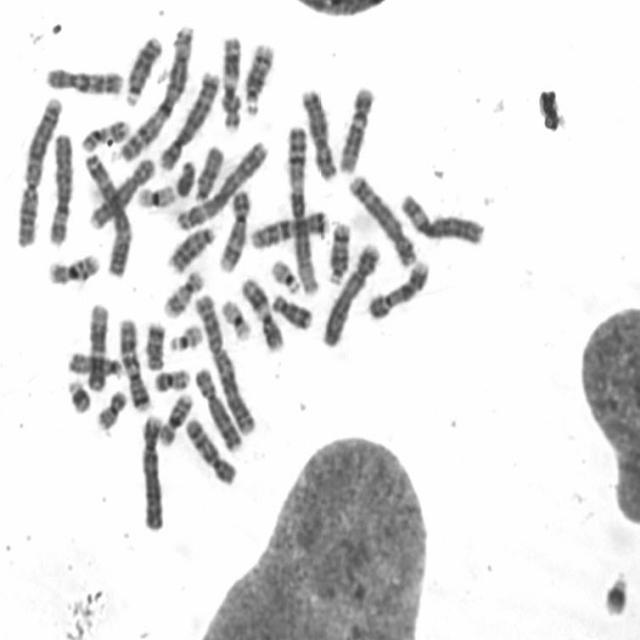A1: (116, 21, 196, 164), (284, 124, 320, 296)
A2: (192, 289, 256, 438), (12, 93, 64, 248)
A3: (173, 137, 270, 232), (81, 148, 133, 280)
B4: (318, 238, 382, 350), (138, 410, 166, 532)
B5: (156, 66, 222, 172), (346, 171, 418, 268)
C10: (182, 413, 238, 487), (43, 64, 125, 96)
C11: (238, 274, 284, 355), (219, 30, 243, 132)
C12: (335, 83, 377, 174), (83, 301, 110, 393)
C6: (396, 189, 486, 247), (44, 128, 75, 246)
C7: (247, 206, 331, 251), (116, 313, 153, 413)
C8: (86, 154, 157, 230), (191, 364, 244, 453)
C9: (364, 256, 433, 322), (216, 187, 253, 275)
D13: (122, 31, 165, 107), (164, 223, 217, 274)
D14: (240, 40, 275, 118), (325, 217, 352, 286)
D15: (191, 142, 226, 203), (65, 348, 125, 381)
E16: (155, 390, 195, 448), (45, 248, 102, 286)
E17: (160, 266, 207, 321), (78, 116, 131, 154)
E18: (270, 289, 315, 332), (142, 318, 166, 372)
F19: (218, 296, 252, 342), (134, 180, 178, 210)
F20: (94, 387, 128, 431), (152, 365, 191, 394)
G21: (599, 568, 631, 618), (66, 376, 92, 415)
G22: (268, 255, 302, 295), (166, 320, 203, 352)
X: (298, 84, 338, 183)
Y: (172, 157, 197, 198)
